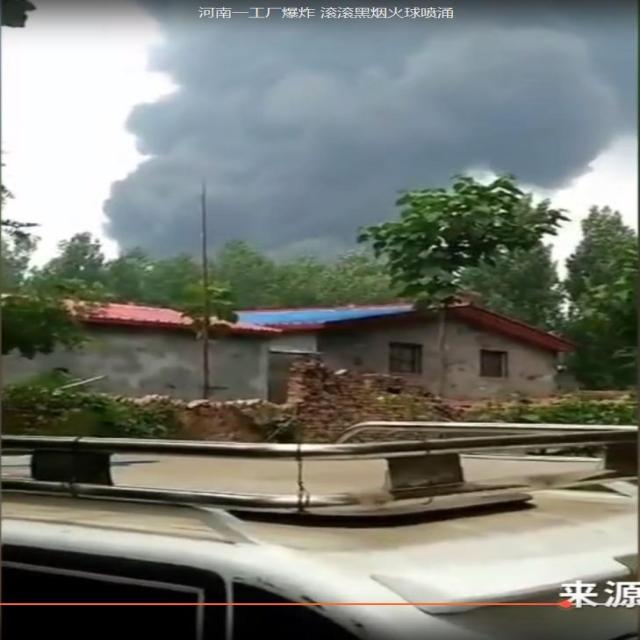smoke: (95, 0, 640, 254)
